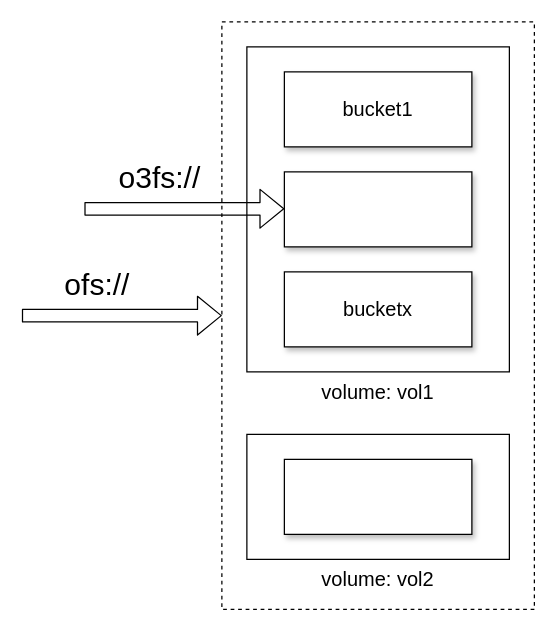
This 556x631 diagram has some shape labels left out. Here are the shapes that lost their labels. From the top down, the centre of each, then its label:
(x=378, y=211): bucket2
(x=378, y=498): bucket5
